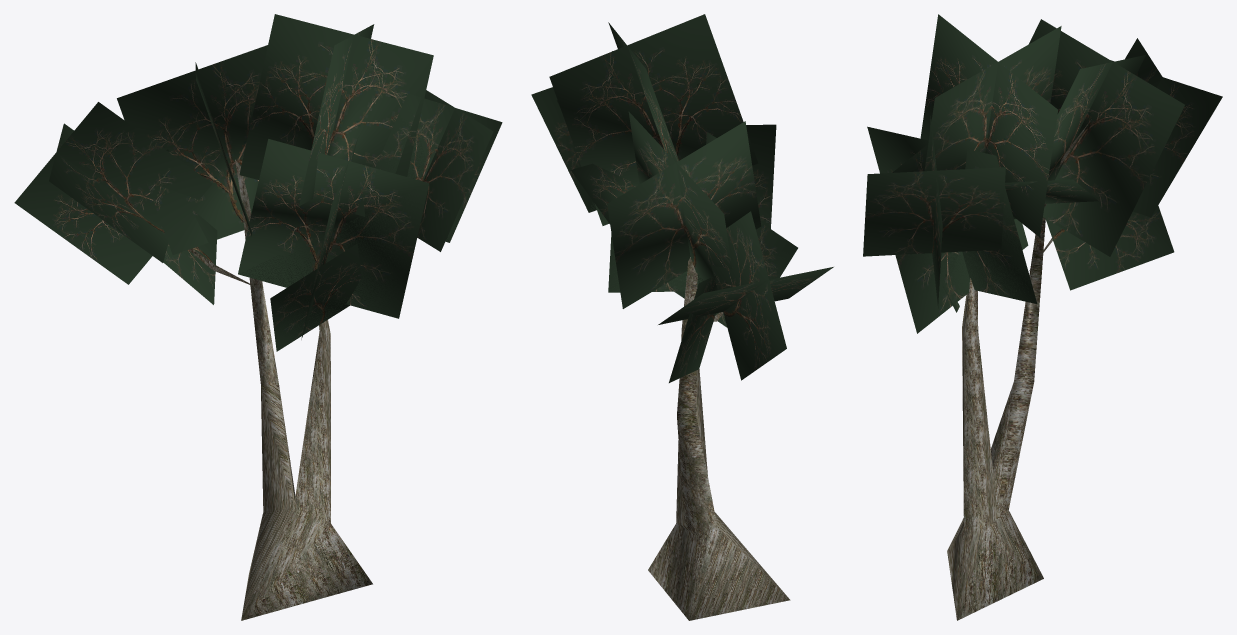
File: decd_hollytreebranches_l2.fbx
3 views of the same model, side by side, from view 1: azimuth 30°, elevation 25°; view 2: azimuth 150°, elevation 25°; view 3: azimuth 270°, elevation 25° (orthographic). The views are drawn at different scales.
Parts seen in each view (by area): view 1: mesh_node; view 2: mesh_node; view 3: mesh_node.
Boxes of the visible parts, x1,y1,x2,y2 form: mesh_node: [14, 14, 502, 620]; mesh_node: [531, 14, 833, 620]; mesh_node: [863, 14, 1222, 620].
Bounding box in the file's own units: 13.1 × 18.47 × 10.34.
2 materials, 2 textured.
